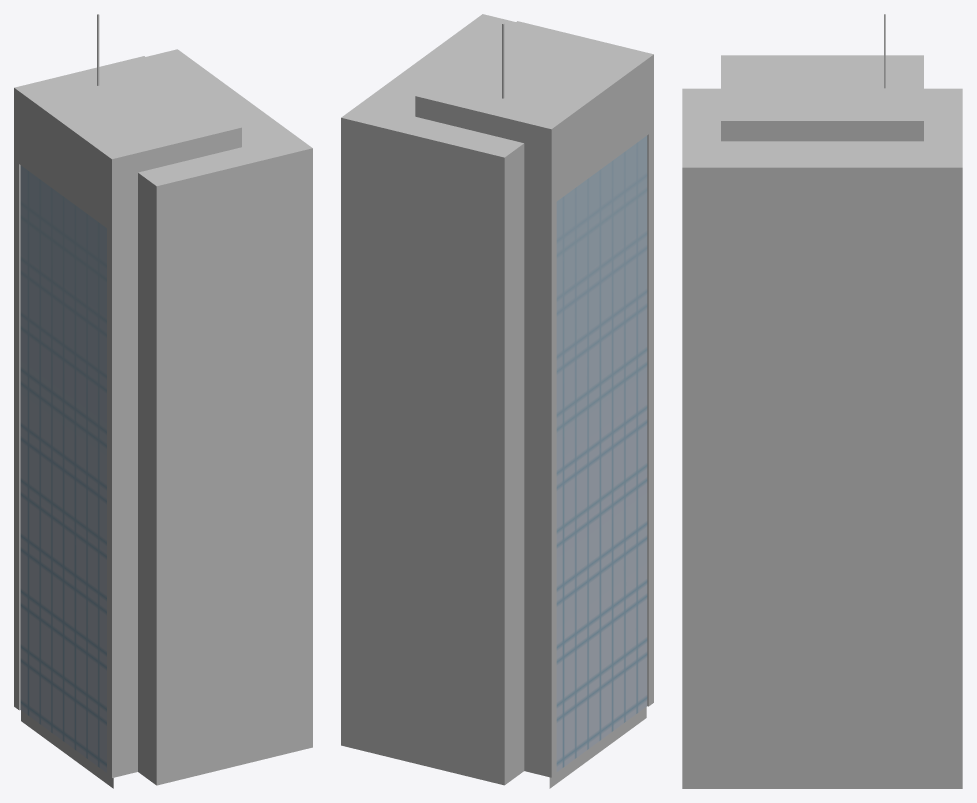
The model's file is bg_common_longmodel_007.fbx.
3 renders of one model, left to right at view 1: azimuth 30°, elevation 25°; view 2: azimuth 150°, elevation 25°; view 3: azimuth 270°, elevation 25°, orthographic. The views are drawn at different scales.
Visible parts, largest first — view 1: bg_common_longmodel_007; view 2: bg_common_longmodel_007; view 3: bg_common_longmodel_007.
Boxes of the visible parts, x1=… form: bg_common_longmodel_007: x1=14, y1=14, x2=312, y2=788; bg_common_longmodel_007: x1=341, y1=14, x2=653, y2=788; bg_common_longmodel_007: x1=682, y1=14, x2=962, y2=788.
Size of the model in its own units: 1260 by 4650 by 1620.
